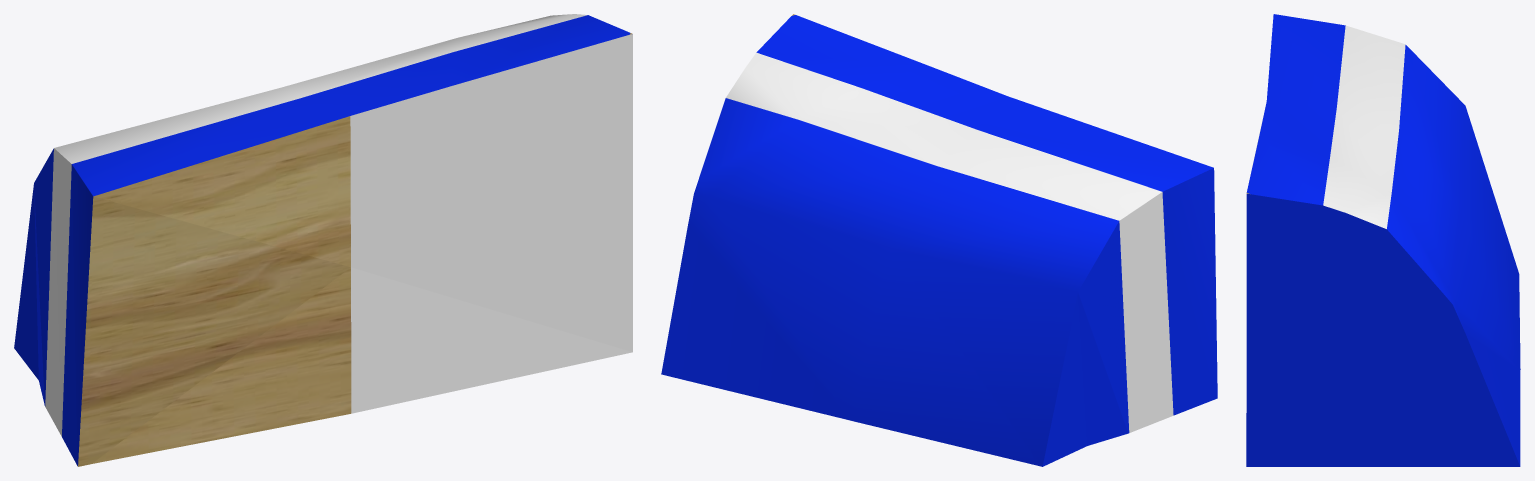
The model's file is backLeft.obj.
3 views of the same model, side by side, from view 1: azimuth 30°, elevation 25°; view 2: azimuth 150°, elevation 25°; view 3: azimuth 270°, elevation 25° (orthographic). The views are drawn at different scales.
Parts seen in each view (by area): view 1: back_l_link; view 2: back_l_link; view 3: back_l_link.
Part boxes in pixels (bbox=[...]): back_l_link: bbox=[14, 14, 632, 466]; back_l_link: bbox=[661, 14, 1217, 466]; back_l_link: bbox=[1246, 14, 1520, 466].
Bounding box in the file's own units: 1.68 × 0.96 × 0.8722.
Materials: 3 (3 with a texture image).
